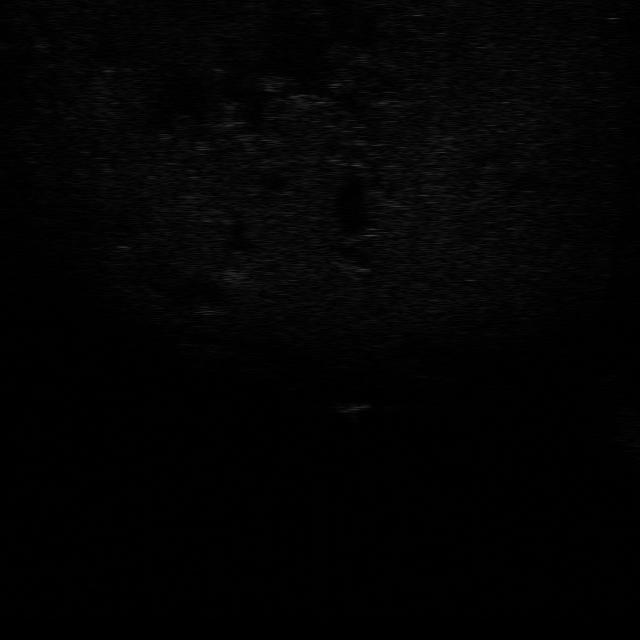square cage: (328, 397, 372, 418)
